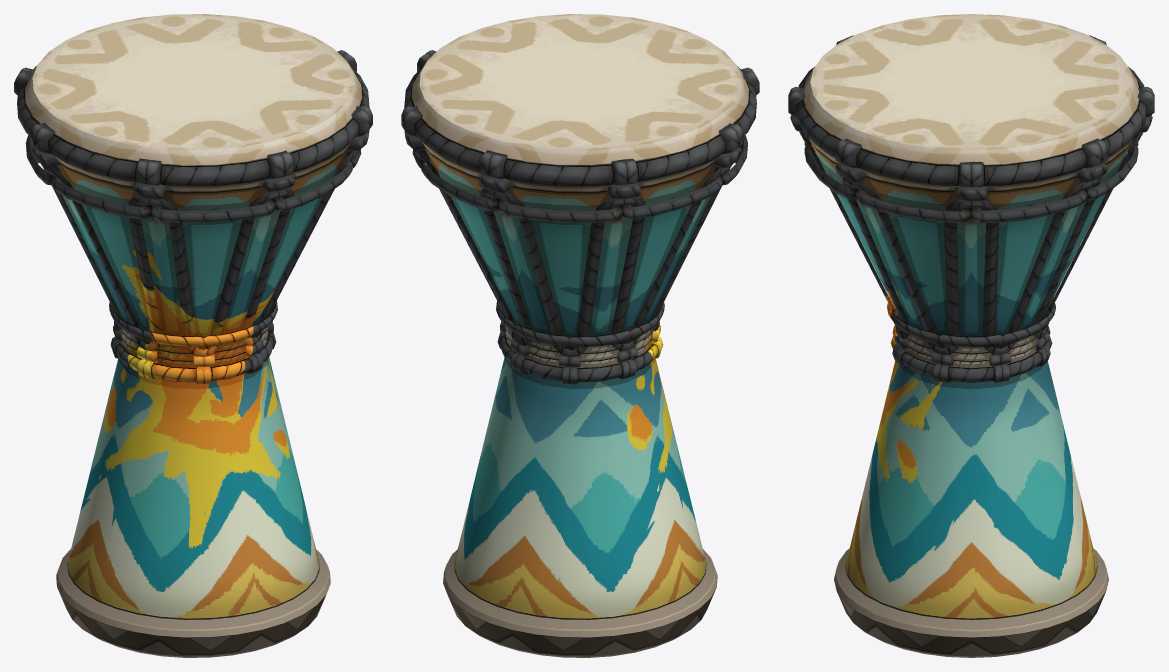
File: Djem Djem Drum.glb
3 views of the same model, side by side, from view 1: azimuth 30°, elevation 25°; view 2: azimuth 150°, elevation 25°; view 3: azimuth 270°, elevation 25° (orthographic).
Parts seen in each view (by area): view 1: AvatarObj_Widget_NatlanDrum_01_Model; view 2: AvatarObj_Widget_NatlanDrum_01_Model; view 3: AvatarObj_Widget_NatlanDrum_01_Model.
Boxes of the visible parts, <box> form: AvatarObj_Widget_NatlanDrum_01_Model: <box>14,14,372,657</box>; AvatarObj_Widget_NatlanDrum_01_Model: <box>401,14,759,657</box>; AvatarObj_Widget_NatlanDrum_01_Model: <box>788,14,1154,657</box>.
Size of the model in its own units: 0.1598 by 0.2524 by 0.1598.
1 material, 1 textured.
